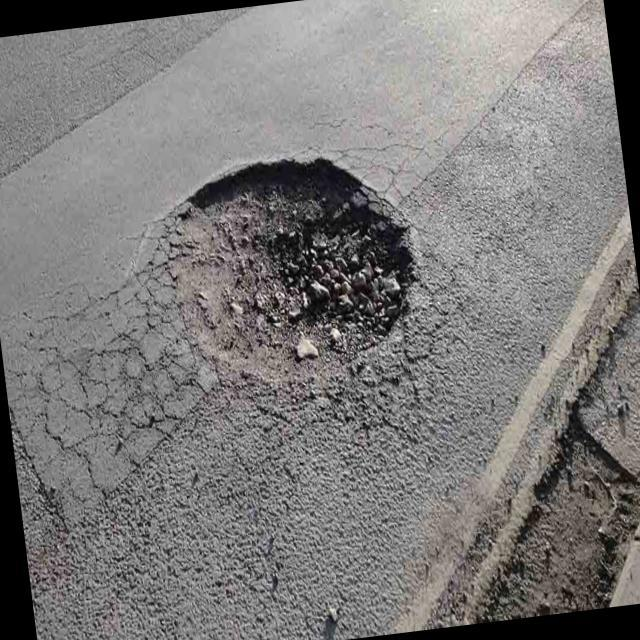Pothole: (146, 134, 424, 392)
